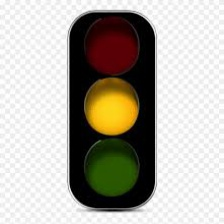semaforo: (68, 11, 157, 210)
